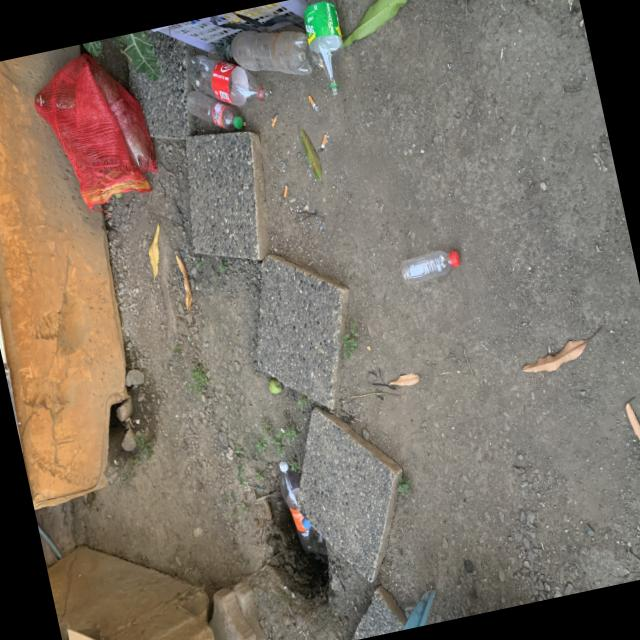Bottle: (399, 250, 459, 284)
